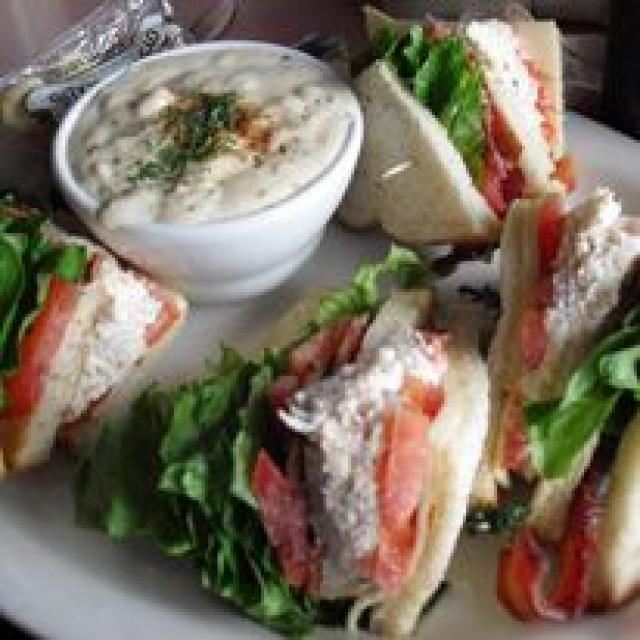Sandwich: (3, 3, 637, 615)
